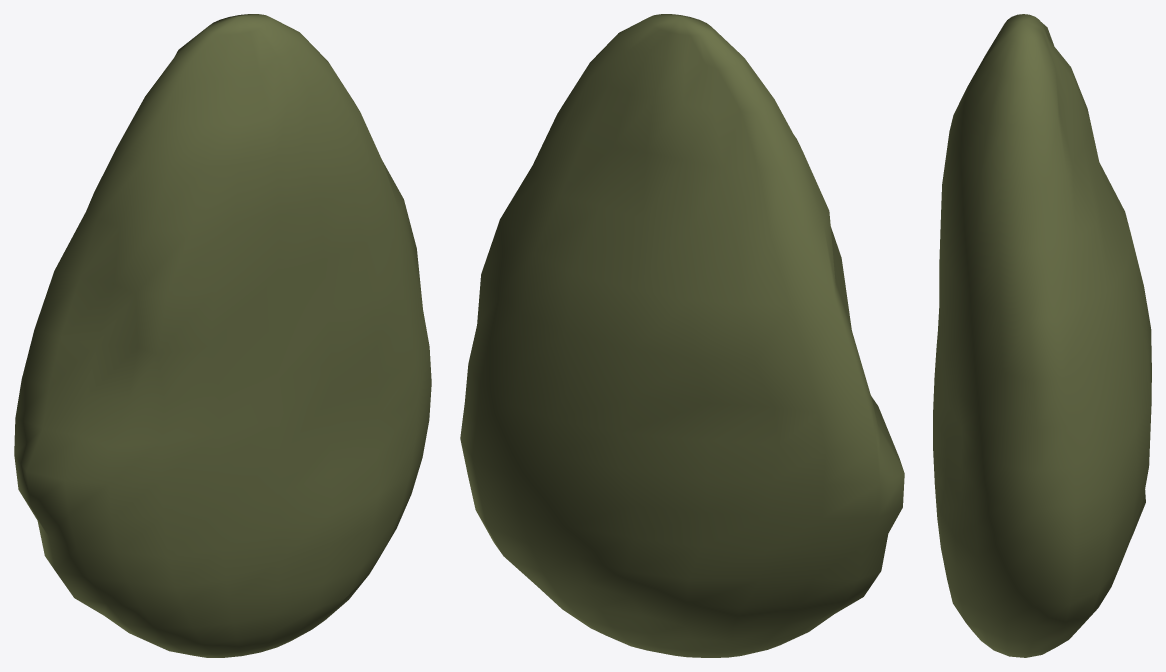
The model's file is sem_zaadje_colour.fbx.
3 views of the same model, side by side, from view 1: azimuth 30°, elevation 25°; view 2: azimuth 150°, elevation 25°; view 3: azimuth 270°, elevation 25° (orthographic). The views are drawn at different scales.
Visible parts, largest first — view 1: pSphere2; view 2: pSphere2; view 3: pSphere2.
Boxes of the visible parts, bbox=[...] form: pSphere2: bbox=[14, 14, 431, 657]; pSphere2: bbox=[460, 14, 904, 657]; pSphere2: bbox=[933, 14, 1151, 657].
Bounding box in the file's own units: 2.89 × 4.22 × 1.37.
